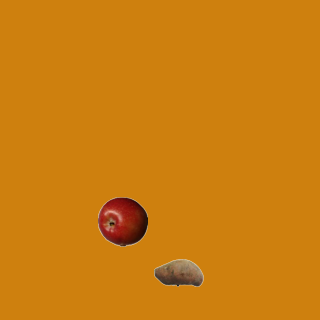Apple Braeburn: (97, 196, 147, 246)
Potato Sweet: (153, 247, 203, 297)
